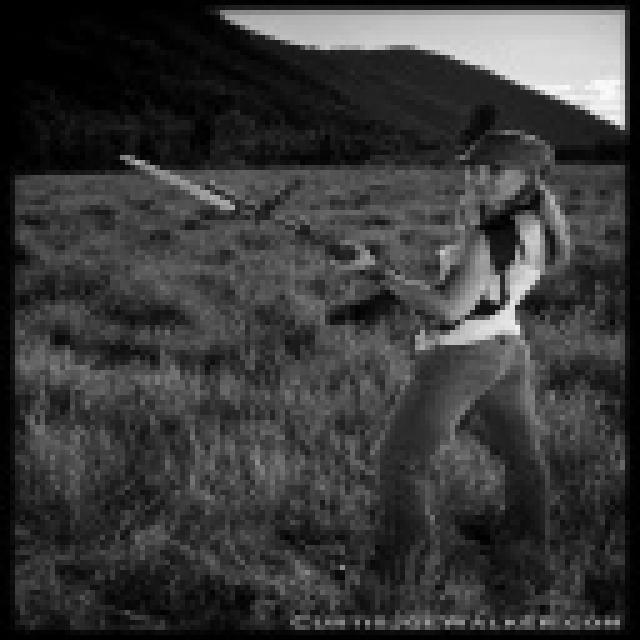Rifle: (111, 115, 516, 400)
